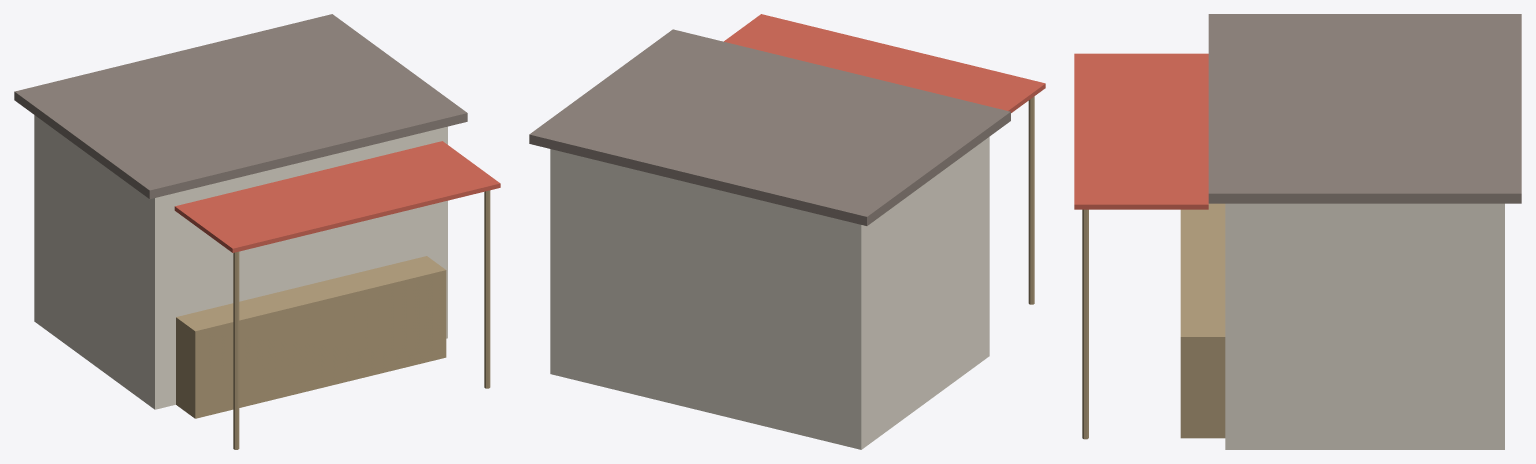
The model's file is snack_bar.glb.
3 renders of one model, left to right at view 1: azimuth 30°, elevation 25°; view 2: azimuth 150°, elevation 25°; view 3: azimuth 270°, elevation 25°, orthographic. The views are drawn at different scales.
Visible parts, largest first — view 1: SnackBar; view 2: SnackBar; view 3: SnackBar.
Boxes of the visible parts, <box> form: SnackBar: <box>14,14,500,449</box>; SnackBar: <box>529,14,1045,449</box>; SnackBar: <box>1074,14,1521,449</box>.
Bounding box in the file's own units: 3.8 × 2.6 × 4.
